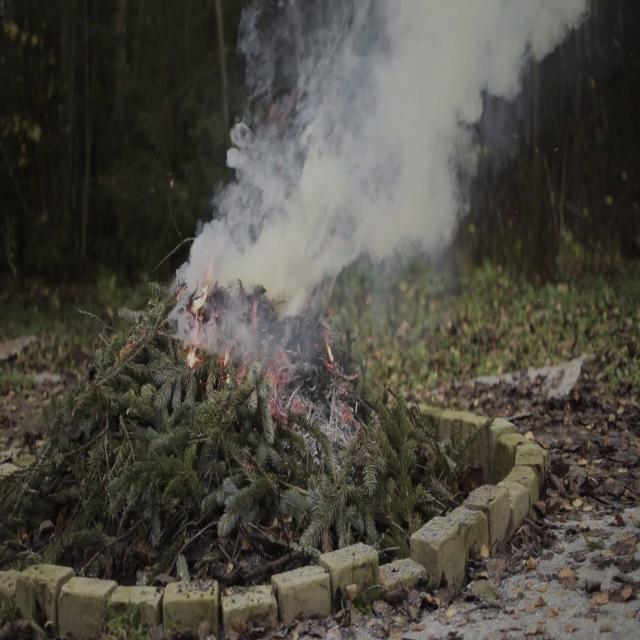Smoke: (178, 0, 548, 308)
